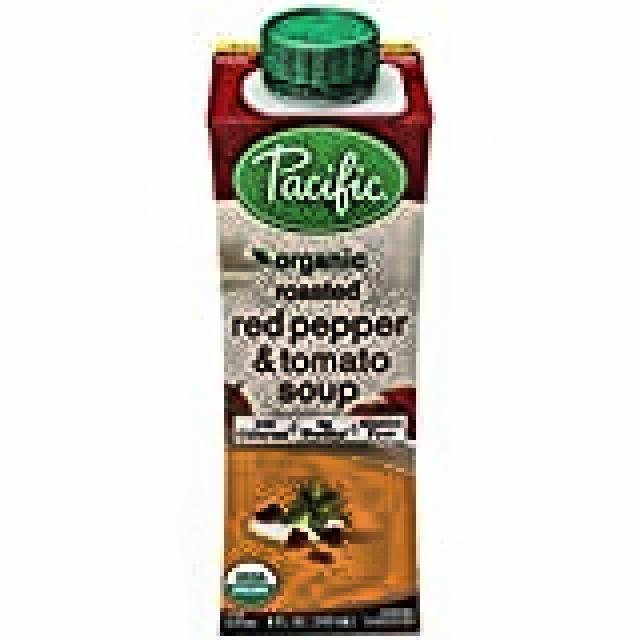cardboard: (204, 32, 432, 636)
